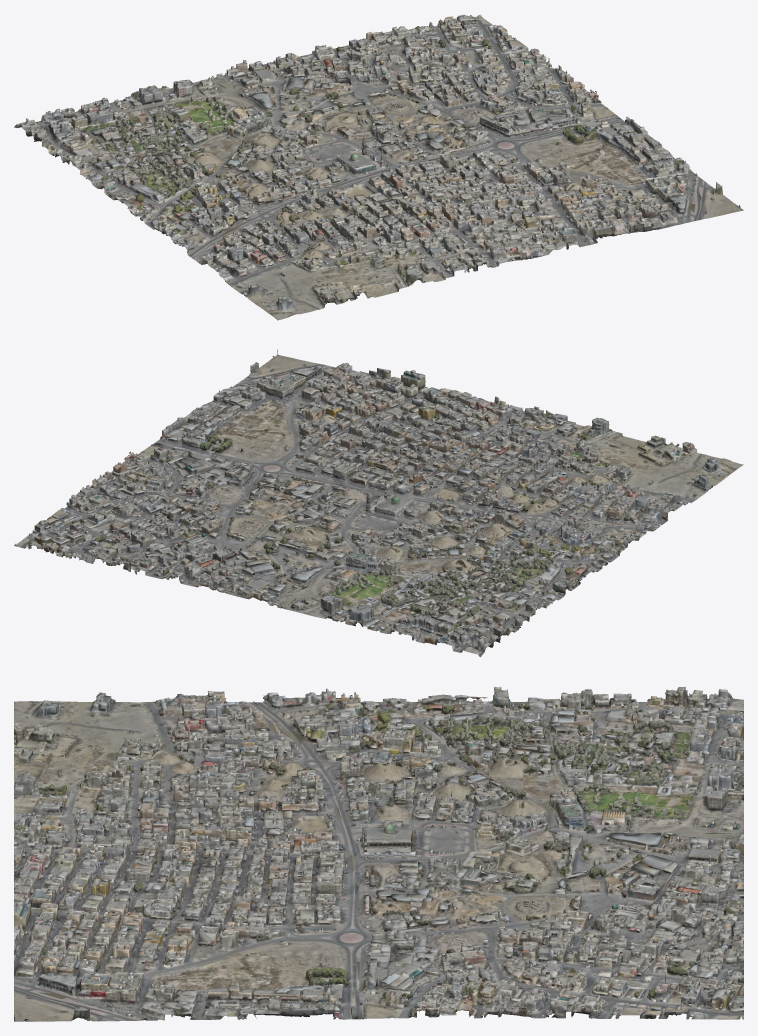
3 views of the same model, one above another, from view 1: azimuth 30°, elevation 25°; view 2: azimuth 150°, elevation 25°; view 3: azimuth 270°, elevation 25° (orthographic). The views are drawn at different scales.
Parts seen in each view (by area): view 1: BHR_002_M2_7-21_Aali; view 2: BHR_002_M2_7-21_Aali; view 3: BHR_002_M2_7-21_Aali.
Boxes of the visible parts, left/top/right/bottom form: BHR_002_M2_7-21_Aali: left=14, top=14, right=743, bottom=320; BHR_002_M2_7-21_Aali: left=14, top=349, right=743, bottom=657; BHR_002_M2_7-21_Aali: left=14, top=686, right=743, bottom=1021.
Bounding box in the file's own units: 751 × 38.42 × 736.
Materials: 1 (1 with a texture image).
